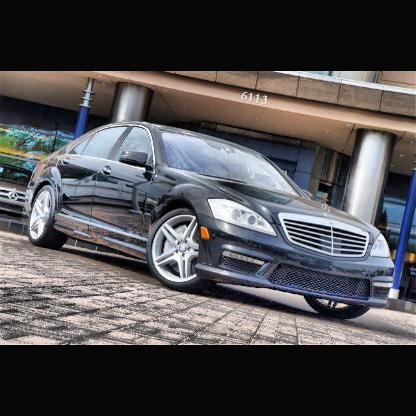Mercedes-Benz S-Class Sedan 2012: (23, 119, 399, 325)
